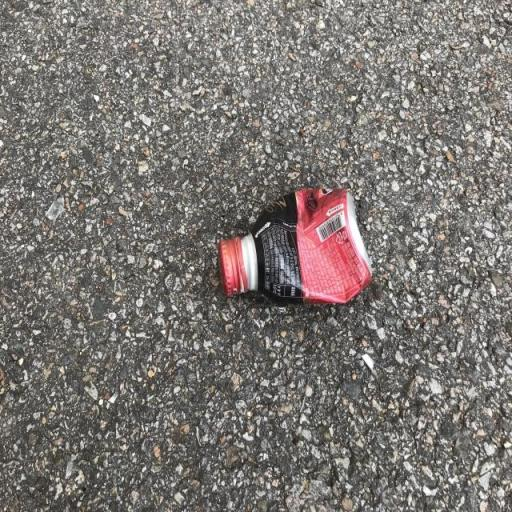metal: (200, 184, 394, 340)
